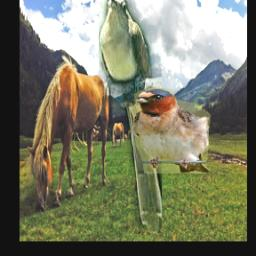Cuckoo: (100, 0, 163, 233)
Swallow: (131, 88, 211, 173)
